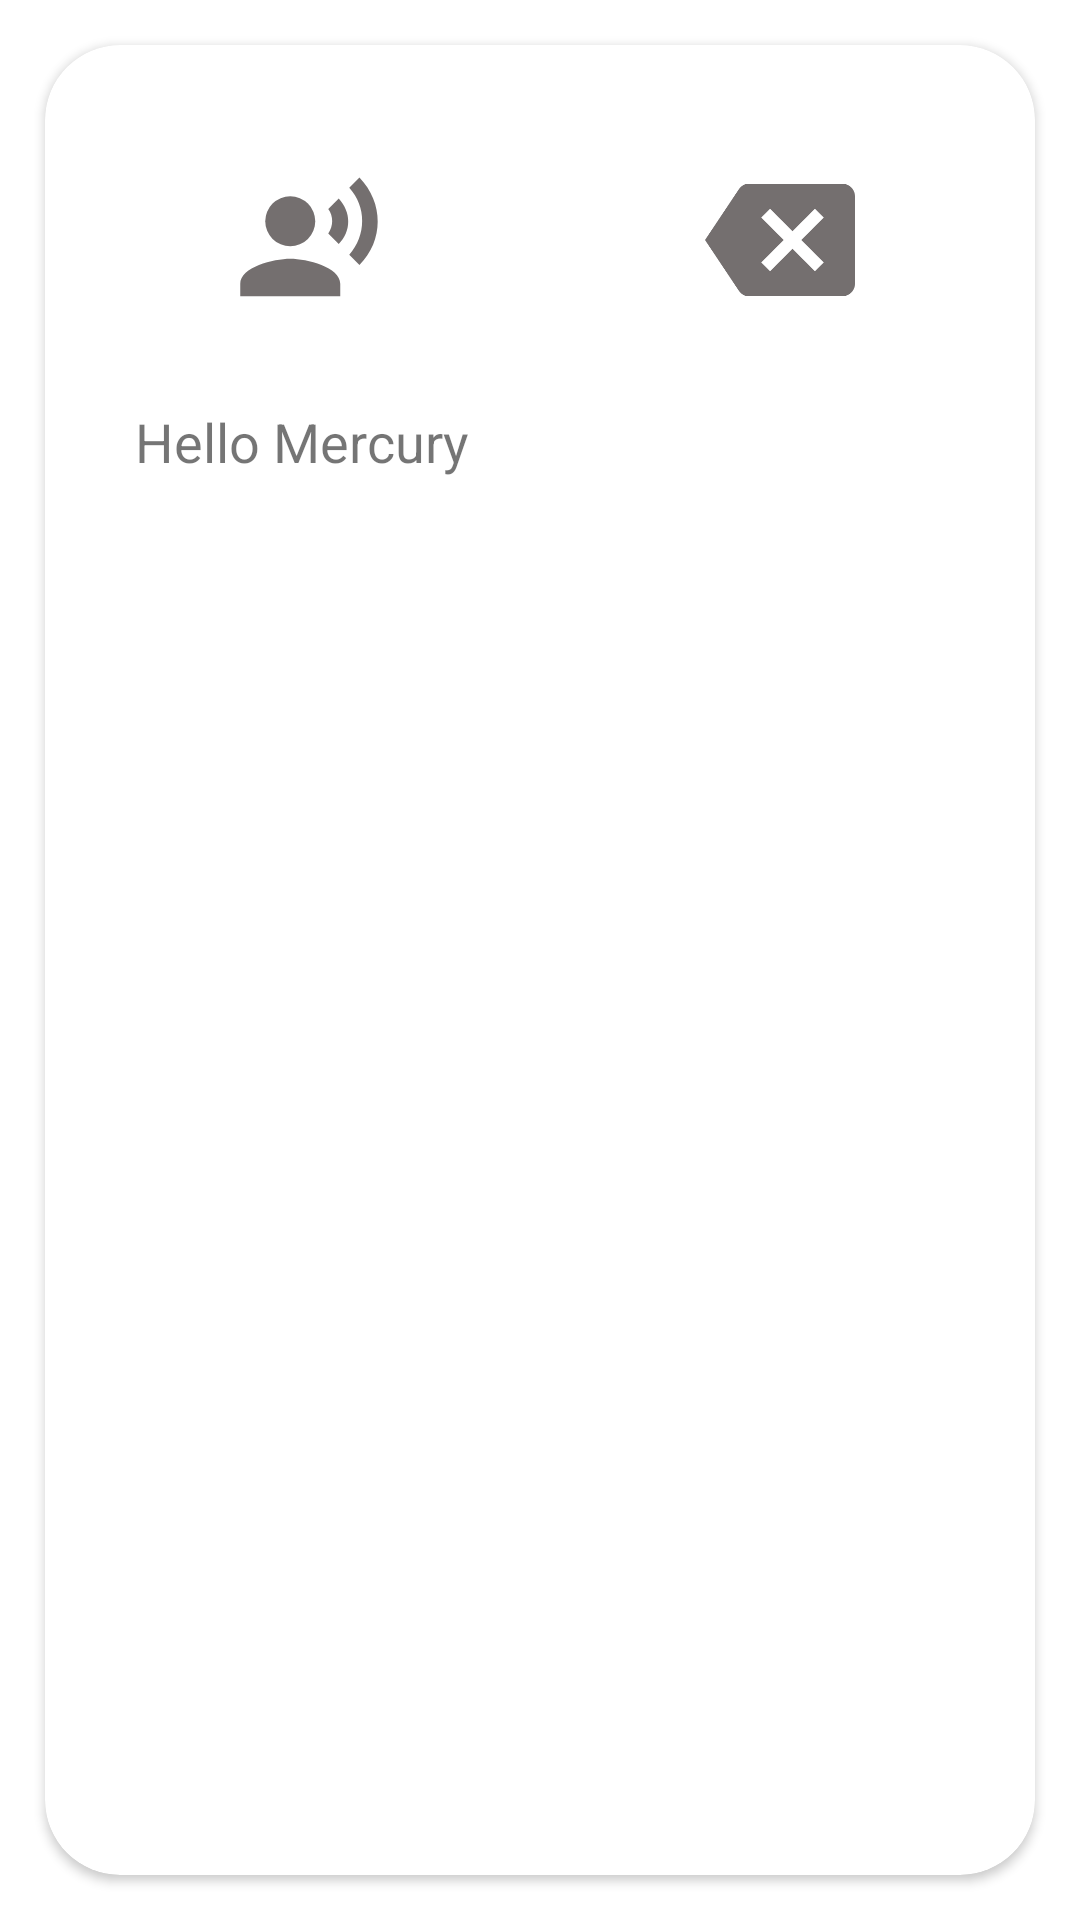

Icons on this 1080px×1920px Android screen, each with the point to tap as point (x, y):
backspace: point (780, 240)
record voice over: point (309, 237)
